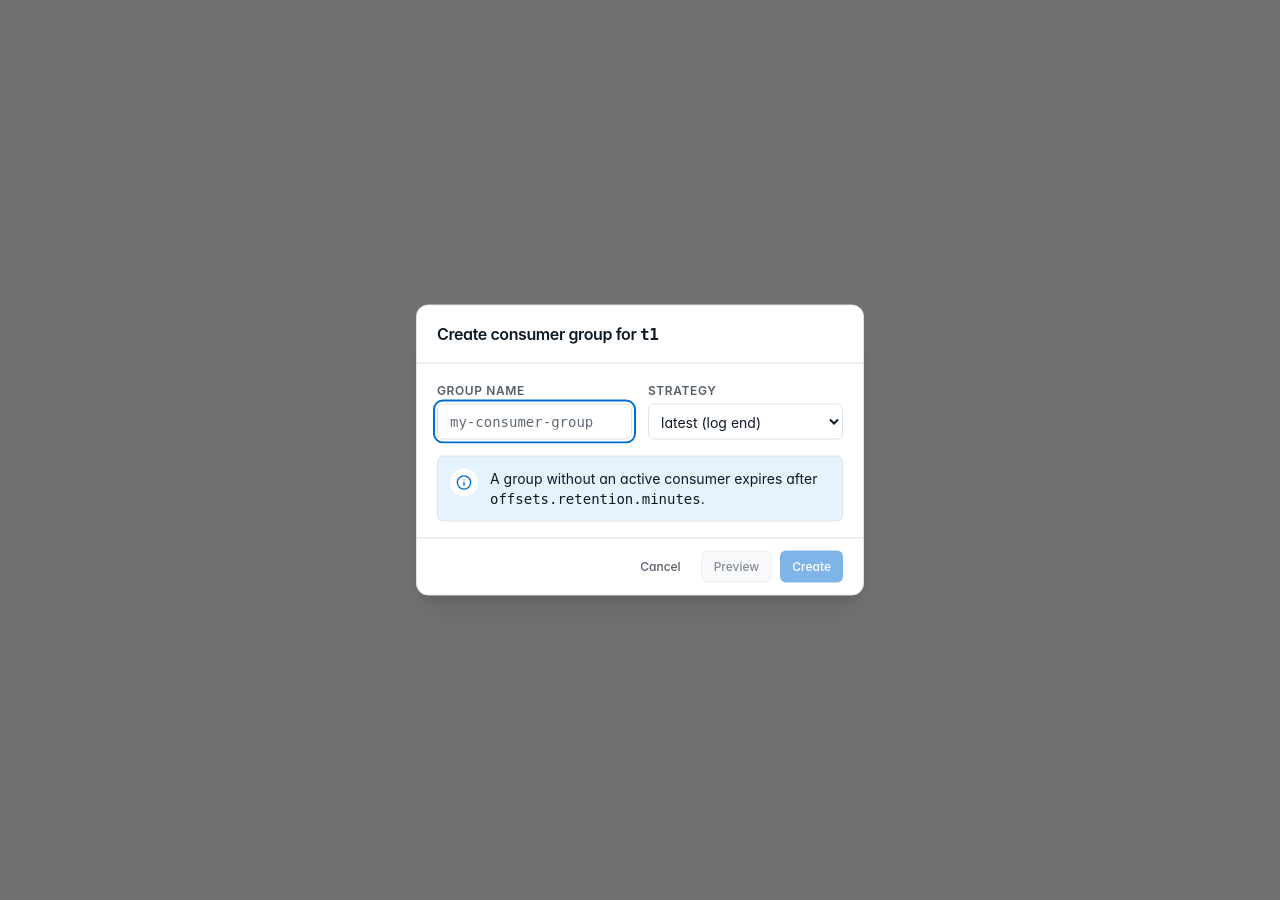
Test case: CreateGroupModal › previews with dry_run true and shows the returned per-partition new offset
Type "g1" into the field labelled "Group name". click: (534,422)
box: [437, 404, 632, 440]
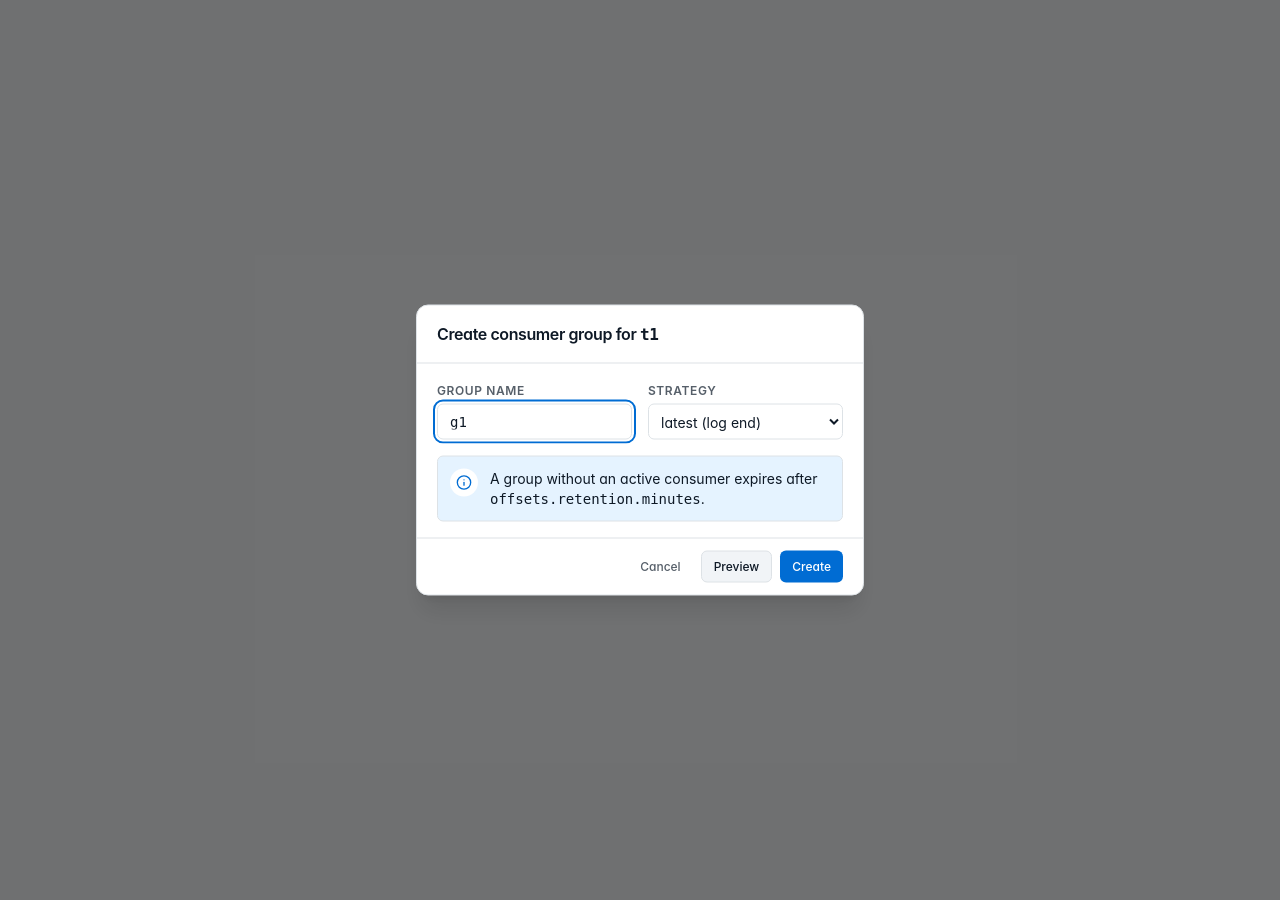
Click the button "Preview". click: (736,566)
box: [701, 550, 772, 582]
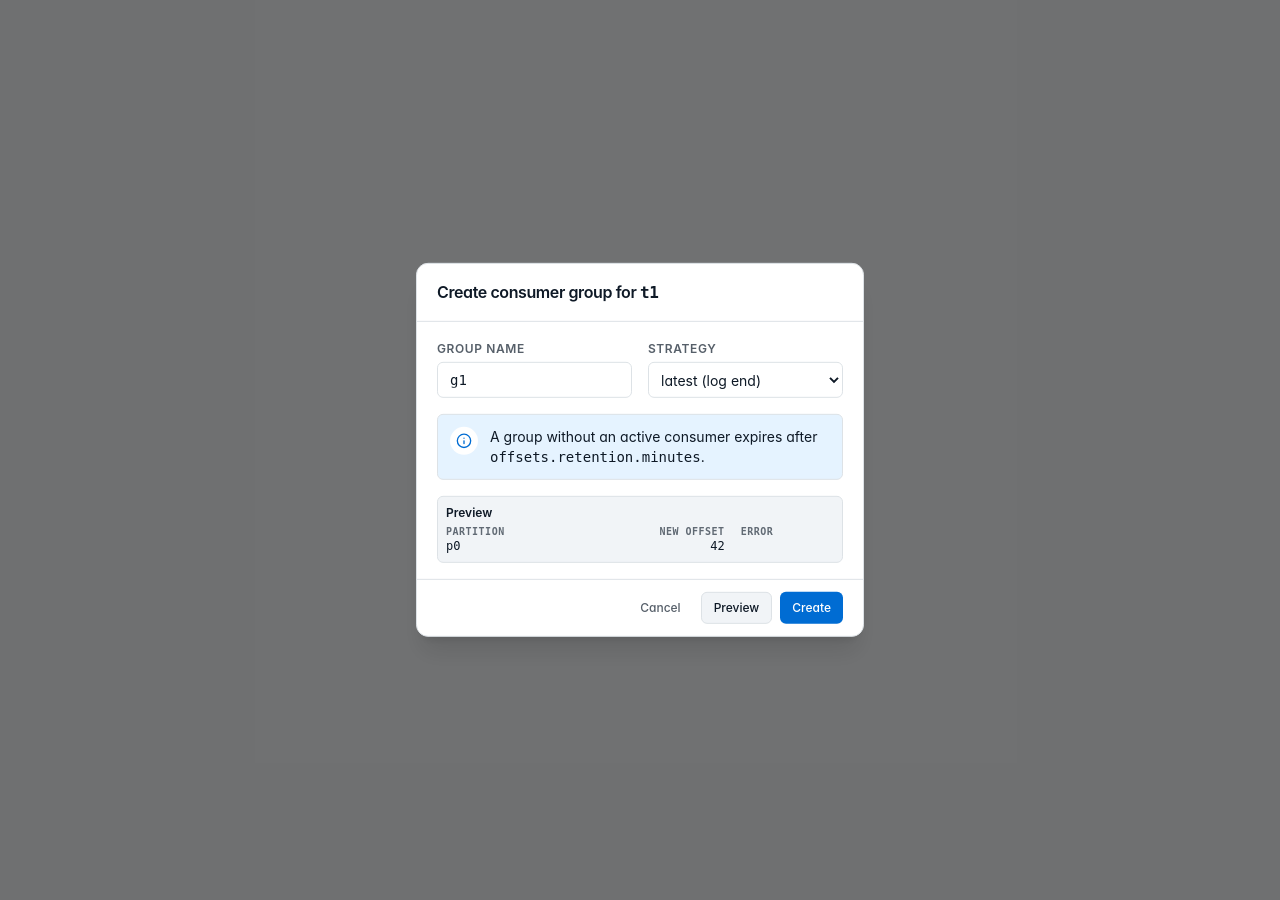
Check: the text "42" is shown, box [578, 538, 725, 554]
